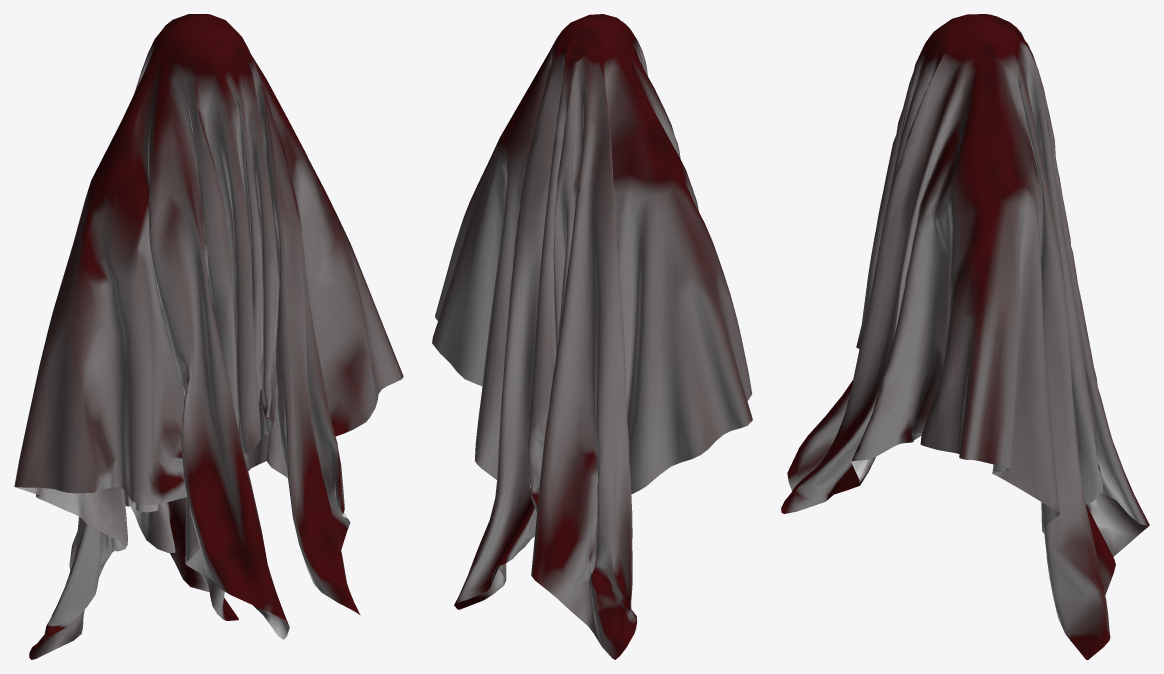
3 views of the same model, side by side, from view 1: azimuth 30°, elevation 25°; view 2: azimuth 150°, elevation 25°; view 3: azimuth 270°, elevation 25° (orthographic). The views are drawn at different scales.
Visible parts, largest first — view 1: gh_low_Default; view 2: gh_low_Default; view 3: gh_low_Default.
Boxes of the visible parts, x1,y1,x2,y2 form: gh_low_Default: (14,14,403,659); gh_low_Default: (432,14,752,659); gh_low_Default: (781,14,1149,659).
Bounding box in the file's own units: 0.9733 × 1.65 × 0.9169.
1 material, 1 textured.
